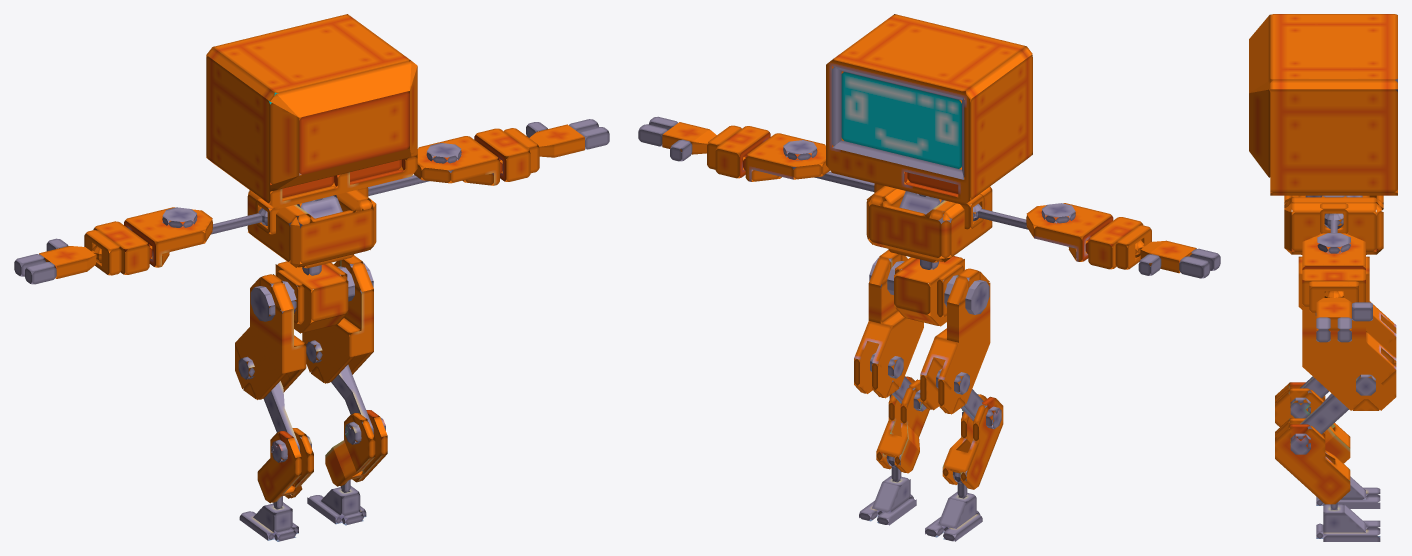
File: bit_bot.rig.v3.3.fbx
The picture shows the model from 3 angles, left to right: view 1: azimuth 30°, elevation 25°; view 2: azimuth 150°, elevation 25°; view 3: azimuth 270°, elevation 25°; orthographic projection. The views are drawn at different scales.
Visible parts, largest first — view 1: BIT_BOT_MESH; view 2: BIT_BOT_MESH; view 3: BIT_BOT_MESH.
Part boxes in pixels (x1,y1,x2,y2): BIT_BOT_MESH: [14, 14, 609, 541]; BIT_BOT_MESH: [638, 14, 1220, 541]; BIT_BOT_MESH: [1249, 14, 1397, 541].
Size of the model in its own units: 588 by 458 by 131.
